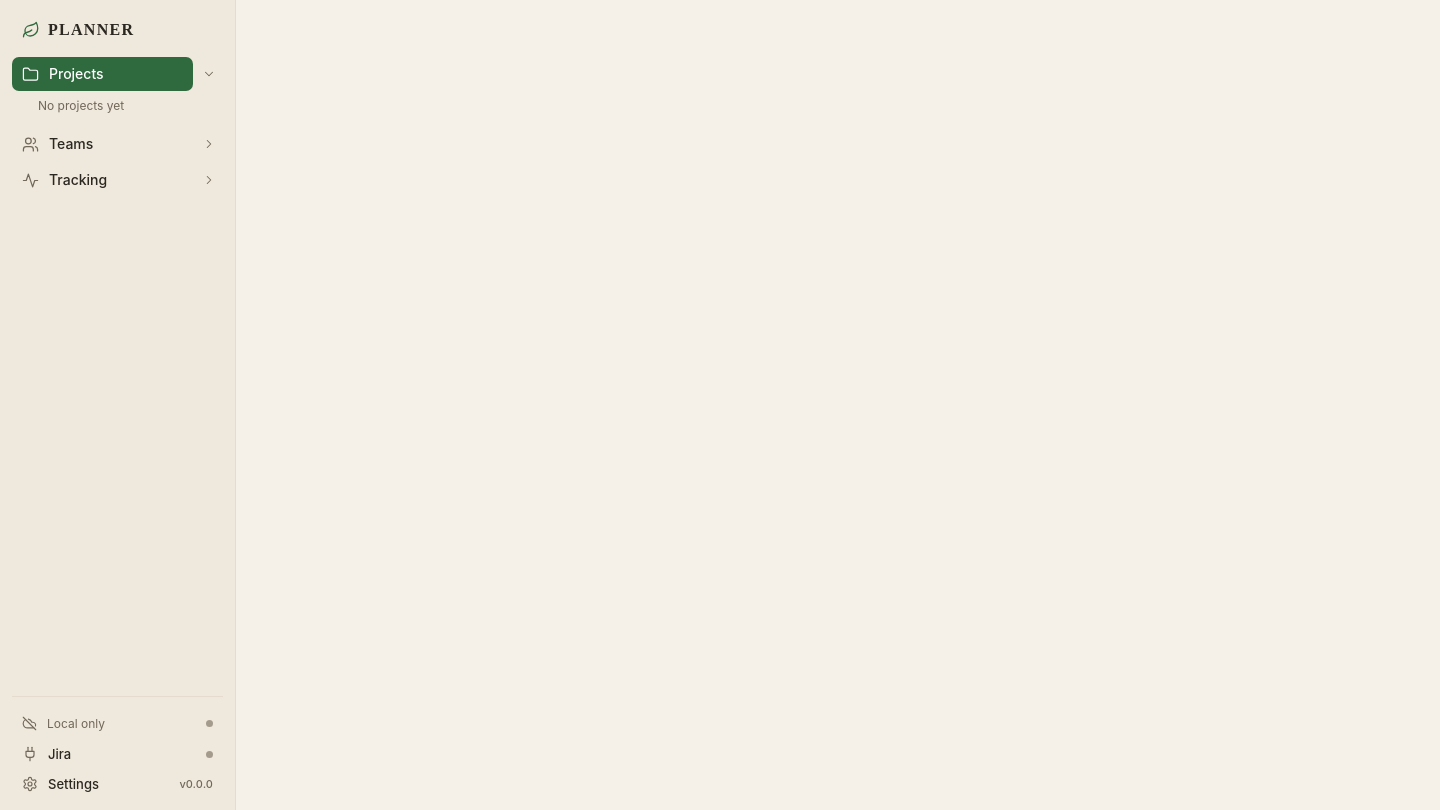
it: sharing in the Mac app › offers the AI assistants section when the app serves MCP
What coordinates should you click on to do the following:
click the button with aria-label "About Planner"
I would click on:
 (118, 784)
Its box is [12,770,223,798].
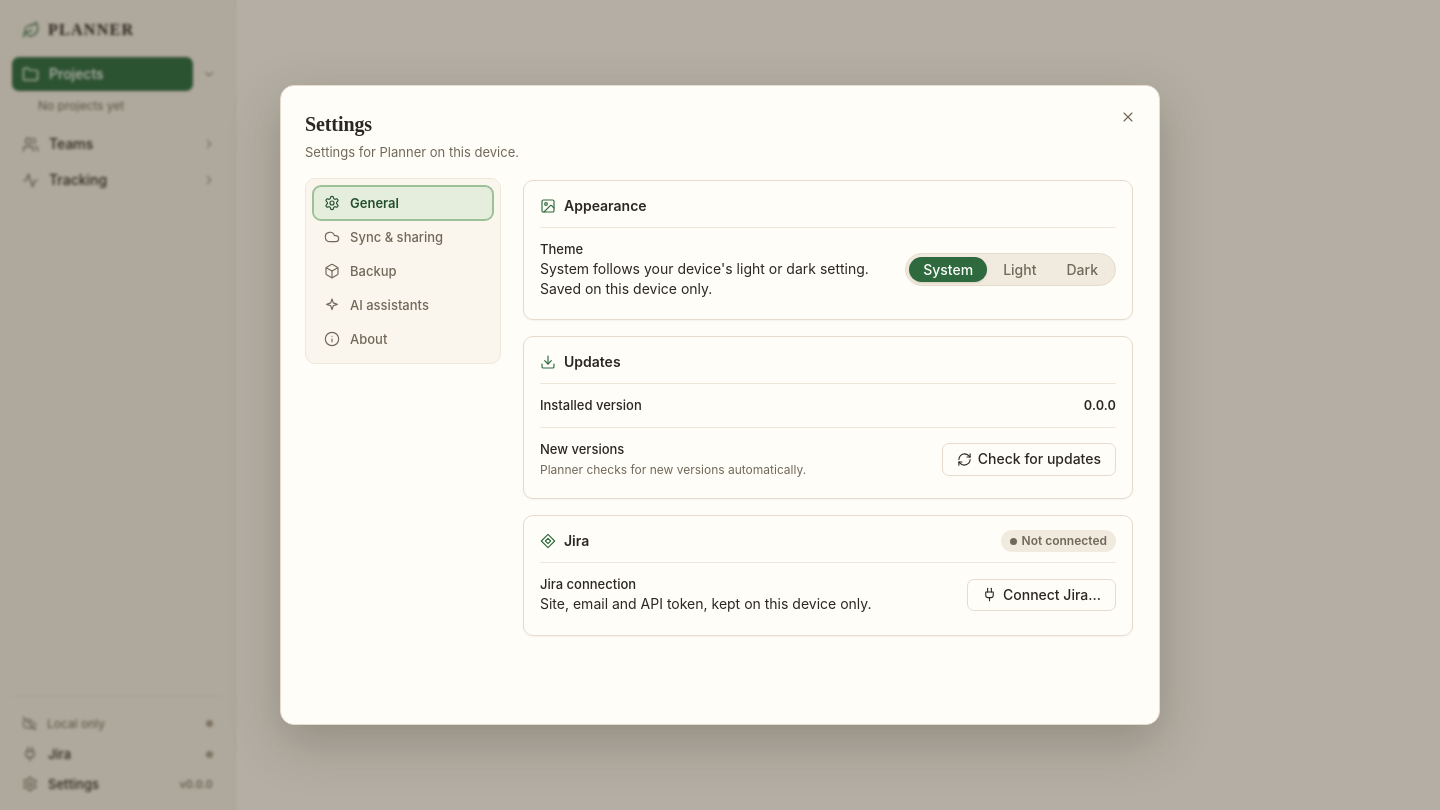
Now the tabs read "General", "Sync & sharing", "Backup", "AI assistants", "About", in this order
What coordinates should you click on to do the following:
click the tab "AI assistants"
I would click on:
 (403, 305)
Its box is [314,289,492,321].
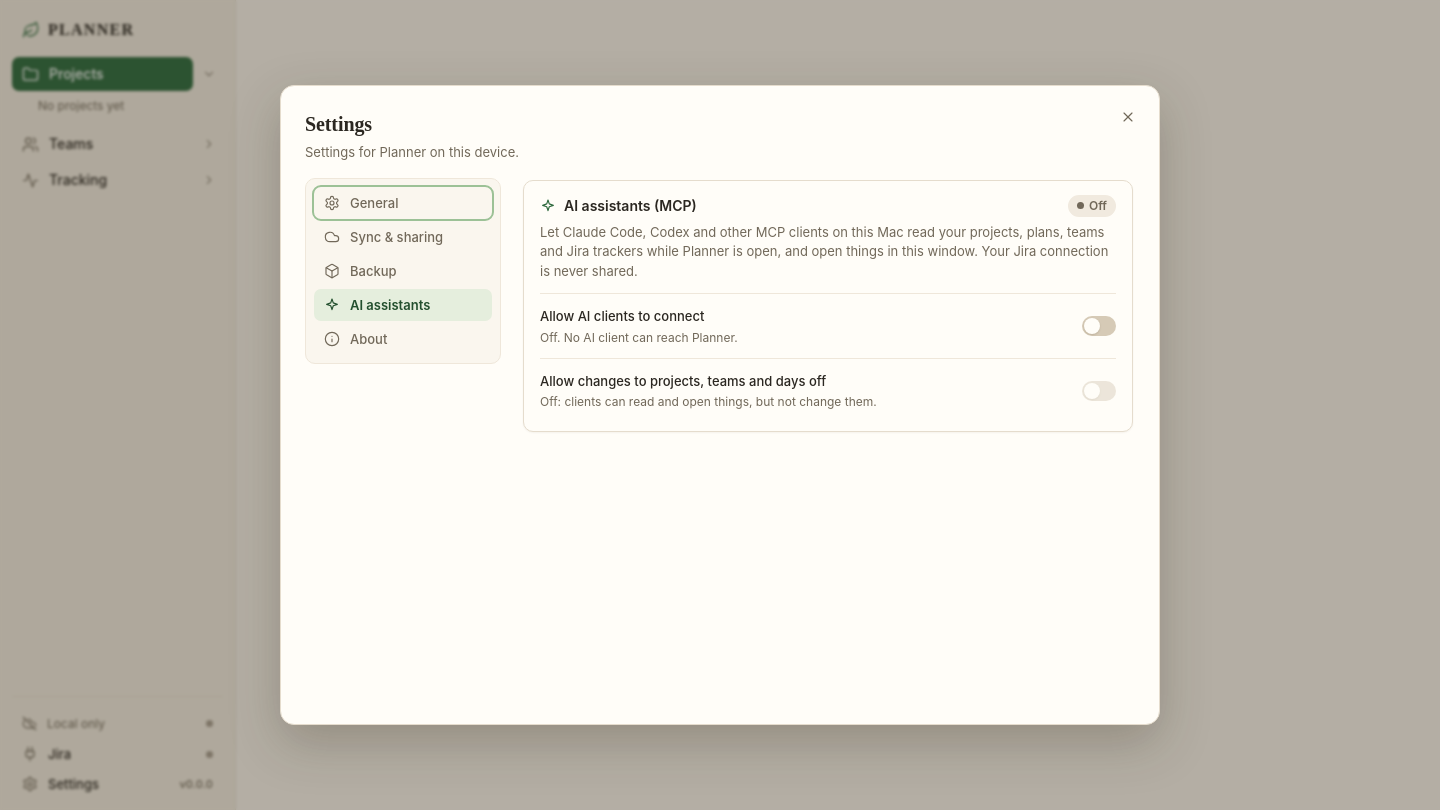
Now the checkbox labelled "Allow AI clients to connect" is shown, box [1082,316,1116,336]
